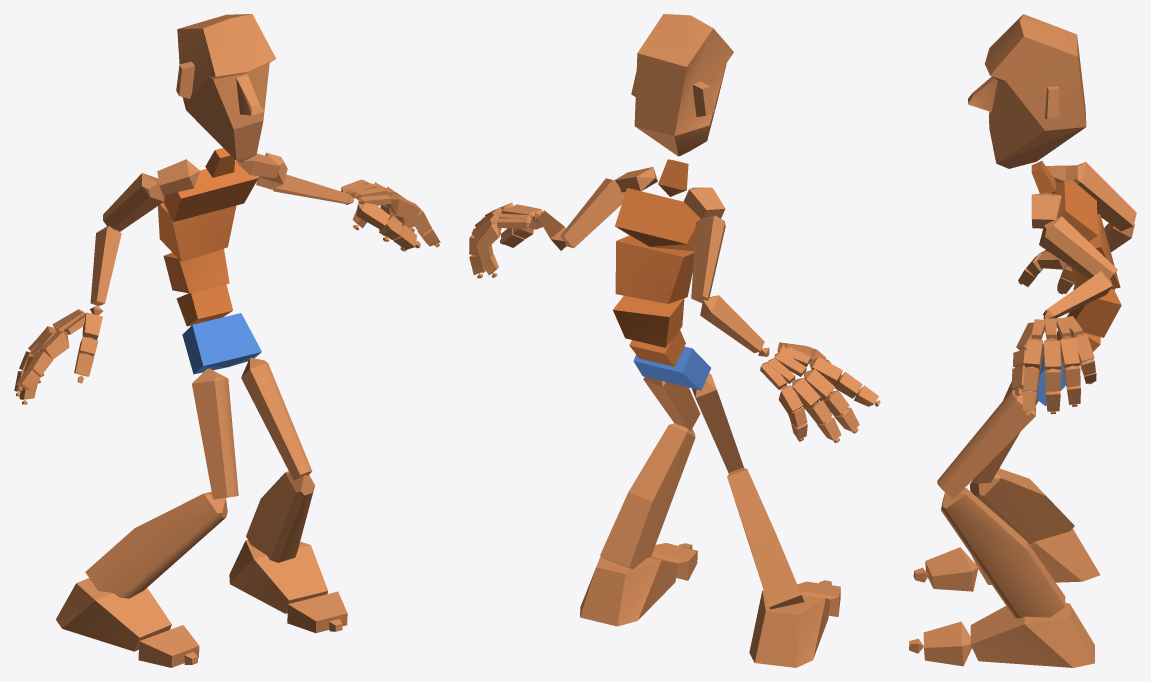
The model's file is prueba148.obj.
The picture shows the model from 3 angles, left to right: view 1: azimuth 30°, elevation 25°; view 2: azimuth 150°, elevation 25°; view 3: azimuth 270°, elevation 25°; orthographic projection. The views are drawn at different scales.
Parts seen in each view (by area): view 1: BOPED_Head, BOPED_R_leg, BOPED_R_foot, BOPED_R_foot01, BOPED_R_legup, BOPED_L_leg, BOPED_L_legup, Bone01, Bone04, Bone05, Bone03, BOPED_R_arm_upper (+8 smaller); view 2: BOPED_Head, BOPED_L_leg, BOPED_R_foot01, BOPED_R_foot, BOPED_R_leg, Bone04, Bone05, Bone03, BOPED_R_arm_upper, BOPED_R_legup, BOPED_L_arm_upper, Bone01 (+8 smaller); view 3: BOPED_Head, BOPED_L_leg, BOPED_R_foot01, BOPED_R_leg, BOPED_L_legup, BOPED_R_foot, BOPED_L_arm_upper, BOPED_R_arm_upper, BOPED_R_foot_toe01, BOPED_R_foot_toe04, Bone05, Bone03 (+15 smaller).
Boxes of the visible parts, box(x1,y1,x2,y2) form: BOPED_Head: box(176, 14, 276, 161); BOPED_R_leg: box(85, 492, 227, 598); BOPED_R_foot: box(56, 578, 171, 651); BOPED_R_foot01: box(229, 540, 327, 613); BOPED_R_legup: box(192, 368, 238, 499); BOPED_L_leg: box(246, 471, 314, 562); BOPED_L_legup: box(241, 358, 312, 480); Bone01: box(182, 313, 261, 374); Bone04: box(158, 202, 236, 262); Bone05: box(163, 161, 258, 221); Bone03: box(163, 248, 229, 293); BOPED_R_arm_upper: box(103, 173, 164, 231); BOPED_Head: box(631, 14, 733, 156); BOPED_L_leg: box(600, 423, 695, 569); BOPED_R_foot01: box(580, 556, 678, 626); BOPED_R_foot: box(749, 590, 830, 667); BOPED_R_leg: box(727, 468, 804, 609); Bone04: box(615, 235, 693, 303); Bone05: box(615, 188, 701, 251); Bone03: box(613, 295, 684, 347); BOPED_R_arm_upper: box(691, 215, 725, 302); BOPED_R_legup: box(692, 373, 743, 473); BOPED_L_arm_upper: box(560, 178, 625, 248); Bone01: box(633, 346, 710, 390); BOPED_Head: box(968, 14, 1086, 168); BOPED_L_leg: box(941, 488, 1065, 618); BOPED_R_foot01: box(970, 603, 1094, 667); BOPED_R_leg: box(970, 468, 1074, 544); BOPED_L_legup: box(937, 389, 1035, 498); BOPED_R_foot: box(971, 528, 1100, 584); BOPED_L_arm_upper: box(1039, 216, 1117, 279); BOPED_R_arm_upper: box(1073, 162, 1136, 231); BOPED_R_foot_toe01: box(925, 547, 978, 591); BOPED_R_foot_toe04: box(923, 621, 971, 666); Bone05: box(1054, 180, 1097, 241); Bone03: box(1069, 286, 1121, 337).
Bounding box in the file's own units: 130 × 178 × 60.5.
